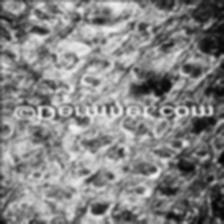Non-Cancerous Skin Condition: (0, 121, 215, 224)
